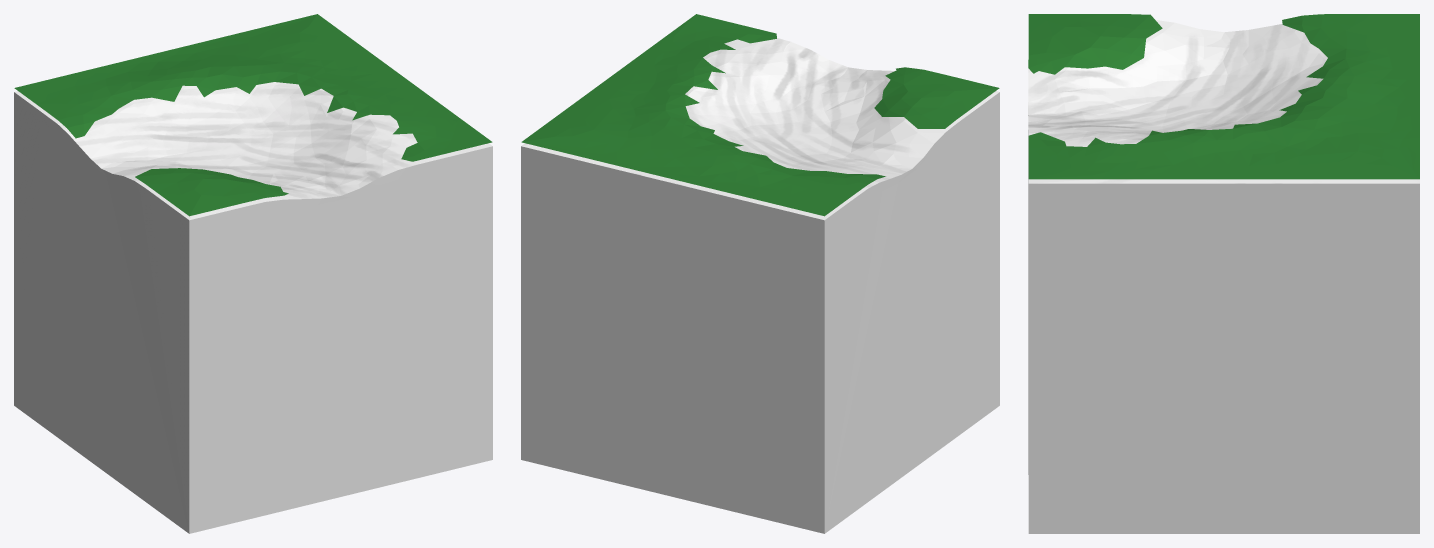
File: PathCorner.glb
3 renders of one model, left to right at view 1: azimuth 30°, elevation 25°; view 2: azimuth 150°, elevation 25°; view 3: azimuth 270°, elevation 25°, orthographic. The views are drawn at different scales.
Visible parts, largest first — view 1: PathCorner, PathCornerGrass; view 2: PathCorner, PathCornerGrass; view 3: PathCorner, PathCornerGrass.
Part boxes in pixels (left/top/right/bottom): PathCorner: left=14, top=82, right=492, bottom=533; PathCornerGrass: left=14, top=14, right=492, bottom=216; PathCorner: left=521, top=38, right=999, bottom=533; PathCornerGrass: left=521, top=14, right=999, bottom=216; PathCorner: left=1028, top=20, right=1419, bottom=533; PathCornerGrass: left=1028, top=14, right=1419, bottom=179.
Bounding box in the file's own units: 2 × 2.04 × 2.
Materials: 2 (1 with a texture image).
